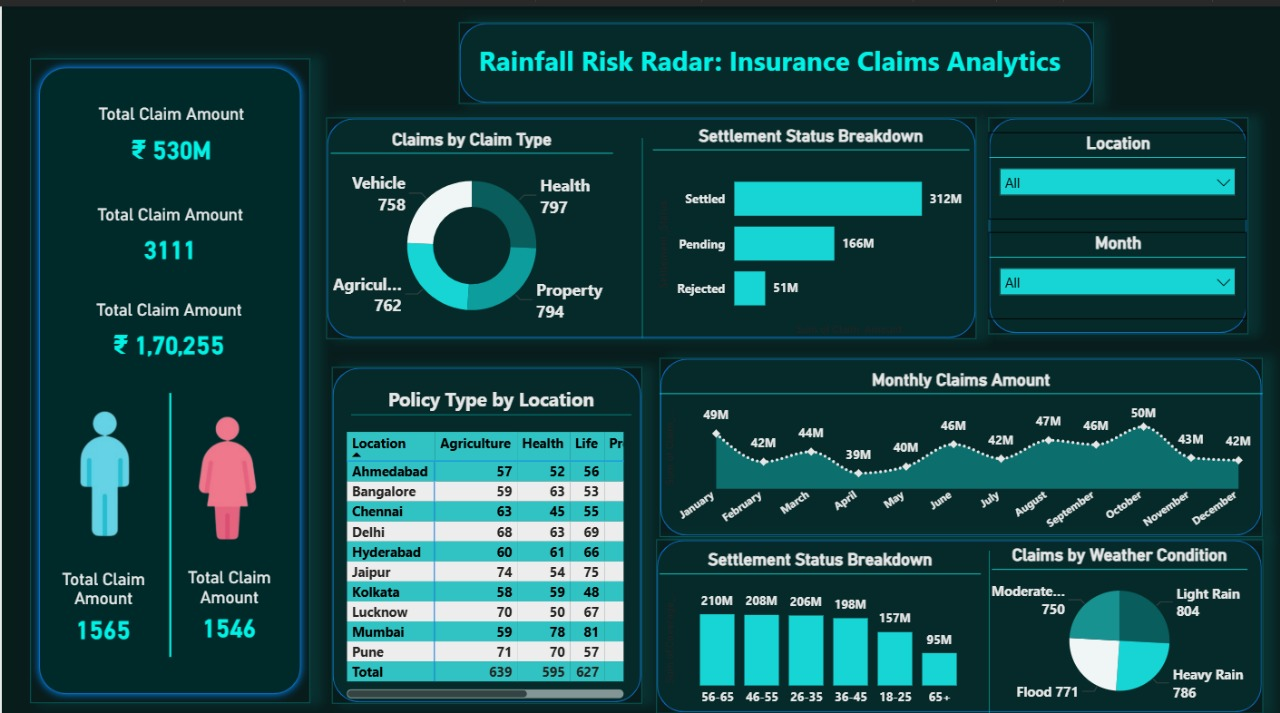

Layout of this report page (visuals, bound fields, positions):
{"tool":"powerbi","page":{"name":"Page 1","canvas":[1280,720],"ordinal":0},"visuals":[{"type":"shape","box":[28.8,52.1,279.9,644.9],"z":0},{"type":"shape","box":[28.1,387.2,280.2,264],"z":1000},{"type":"card","title":"Total Claim Amount","fields":{"Values":["Measure.Total Claim Amount"]},"box":[29.1,97.7,280.2,71.6],"z":2000},{"type":"card","title":"No. of Claims","fields":{"Values":["Measure.Total Policies"]},"box":[27.9,198.6,280.2,70.9],"z":3000},{"type":"card","title":"Avg. Claim Amount","fields":{"Values":["Measure.Average Claim Amount"]},"box":[26.7,293.3,280.2,70.9],"z":4000},{"type":"image","box":[62.1,390.7,82.6,151.2],"z":5000},{"type":"card","title":"Male Clients","fields":{"Values":["Measure.Male Claim Amount"]},"box":[47.6,561.4,106.6,82.8],"z":6000},{"type":"image","box":[183.7,395.3,83.7,148.8],"z":7000},{"type":"card","title":"Female  Clients","fields":{"Values":["Measure.Female Clients"]},"box":[159.9,561.4,147.4,82.8],"z":8000},{"type":"shape","box":[457.1,15.6,634.9,81.8],"z":9000},{"type":"textbox","box":[457.1,31.2,622,51.9],"z":10000},{"type":"shape","box":[324.8,111.2,650.8,221.7],"z":11000},{"type":"donutChart","title":"Claims by Claim Type","fields":{"Y":["CountNonNull(rain_insurance_claims_4568 (1).Claim_ID)"],"Category":["rain_insurance_claims_4568 (1).Claim_Type"]},"box":[329.2,122,282.6,206.8],"z":12000},{"type":"shape","box":[500.2,131.6,280.9,200.3],"z":13000},{"type":"clusteredBarChart","title":"Settlement Status Breakdown","fields":{"Y":["Sum(rain_insurance_claims_4568 (1).Claim_Amount)"],"Category":["rain_insurance_claims_4568 (1).Settlement_Status"]},"box":[650.8,119.5,316.5,213.4],"z":14000},{"type":"shape","box":[329.5,360.4,310.6,336.7],"z":15000},{"type":"shape","box":[657.9,351.9,603.4,179],"z":16000},{"type":"areaChart","title":"Monthly Claims Amount","fields":{"Category":["rain_insurance_claims_4568 (1).Claim_Date.Variation.Date Hierarchy.Month"],"Y":["Sum(rain_insurance_claims_4568 (1).Claim_Amount)"]},"box":[657.9,362.5,603.4,168.3],"z":17000},{"type":"shape","box":[654.3,533.2,606.9,174.3],"z":18000},{"type":"pivotTable","title":"Settlement Status Breakdown","fields":{"Rows":["rain_insurance_claims_4568 (1).Location"],"Values":["CountNonNull(rain_insurance_claims_4568 (1).Claim_ID)"],"Columns":["rain_insurance_claims_4568 (1).Policy_Type"]},"box":[340.2,420.8,286.9,276.2],"z":19000},{"type":"shape","box":[986.8,111.7,259.7,216.8],"z":20000},{"type":"columnChart","title":"Sum of Coverage Amount by Age","fields":{"Y":["Sum(rain_insurance_claims_4568 (1).Coverage_Amount)"],"Category":["rain_insurance_claims_4568 (1).Age Range"]},"box":[657.9,542.9,321.2,164.8],"z":21000},{"type":"shape","box":[847.6,544.1,280.9,162.4],"z":22000},{"type":"pieChart","title":"Claims by Weather Condition","fields":{"Category":["rain_insurance_claims_4568 (1).Weather_Condition"],"Y":["CountNonNull(rain_insurance_claims_4568 (1).Claim_Type)"]},"box":[990.7,538.9,255.8,164.9],"z":23000},{"type":"slicer","title":"Location","fields":{"Values":["rain_insurance_claims_4568 (1).Location"]},"box":[986.8,125.9,258.4,87],"z":24000},{"type":"slicer","title":"Month","fields":{"Values":["rain_insurance_claims_4568 (1).Claim_Date.Variation.Date Hierarchy.Month"]},"box":[986.8,225.9,258.4,87],"z":25000},{"type":"textbox","box":[337.6,375.2,302.5,45.4],"z":26000},{"type":"shape","box":[349.3,309,280.5,200],"z":27000}]}

Visuals, with their boxes in screenshot pixels (x1, y1, x2, y2), scaled from the page's 1280x720 canvas onto the 1280x713 screenshot:
shape: (29,52,309,690)
shape: (28,383,308,645)
"Total Claim Amount" card: (29,97,309,168)
"No. of Claims" card: (28,197,308,267)
"Avg. Claim Amount" card: (27,290,307,361)
image: (62,387,145,537)
"Male Clients" card: (48,556,154,638)
image: (184,391,267,539)
"Female  Clients" card: (160,556,307,638)
shape: (457,15,1092,96)
textbox: (457,31,1079,82)
shape: (325,110,976,330)
"Claims by Claim Type" donutChart: (329,121,612,326)
shape: (500,130,781,329)
"Settlement Status Breakdown" clusteredBarChart: (651,118,967,330)
shape: (330,357,640,690)
shape: (658,348,1261,526)
"Monthly Claims Amount" areaChart: (658,359,1261,526)
shape: (654,528,1261,701)
"Settlement Status Breakdown" pivotTable: (340,417,627,690)
shape: (987,111,1246,325)
"Sum of Coverage Amount by Age" columnChart: (658,538,979,701)
shape: (848,539,1128,700)
"Claims by Weather Condition" pieChart: (991,534,1246,697)
"Location" slicer: (987,125,1245,211)
"Month" slicer: (987,224,1245,310)
textbox: (338,372,640,417)
shape: (349,306,630,504)
